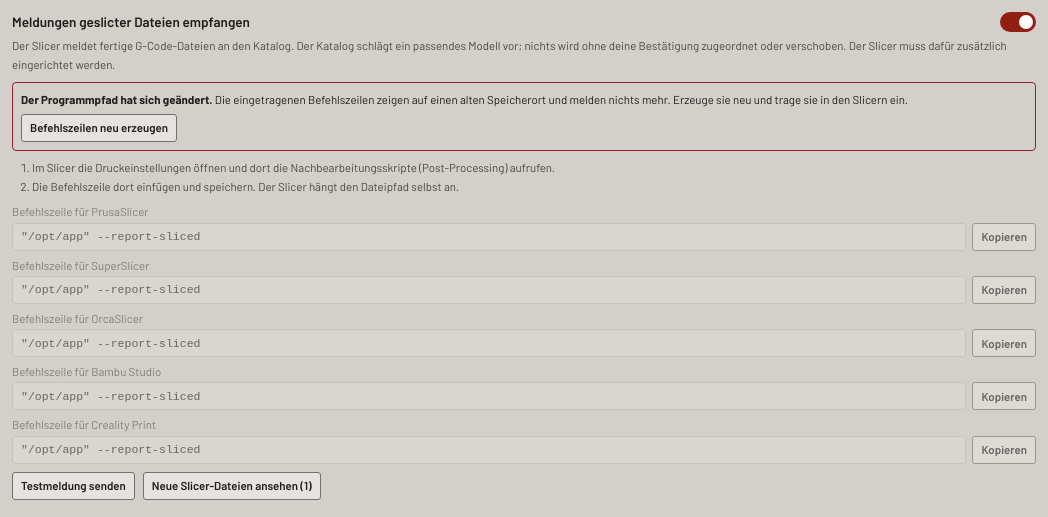
Test: settings › warns when the program path changed and renews the lines on request
The image size is (1048, 517).
expect the message shows "Der Programmpfad hat sich geändert.": met, box left=21, top=92, right=212, bottom=106
Click the button "Befehlszeilen neu erzeugen" at (99, 128), box left=21, top=114, right=177, bottom=142
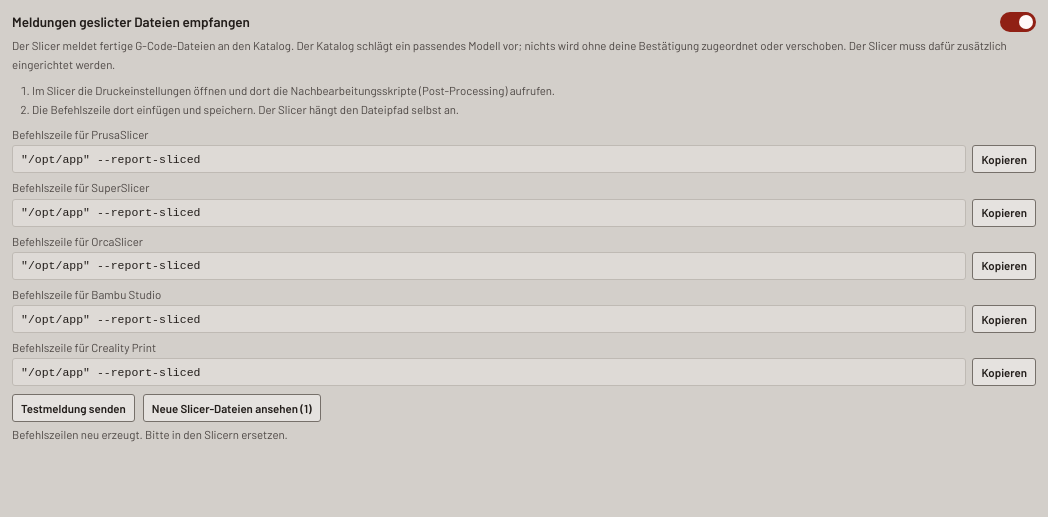
expect the text "Befehlszeilen neu erzeugt. Bitte in den Slicern ersetzen." is shown: met, box left=12, top=427, right=288, bottom=441
expect the text "Der Programmpfad hat sich geändert." is gone: met
